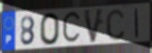8: (20, 15, 35, 47)
C: (62, 9, 83, 46), (105, 7, 126, 42)
I: (134, 8, 140, 39)
O: (39, 12, 61, 47)
V: (82, 7, 106, 45)
